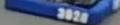blue_number: (56, 5, 89, 25)
